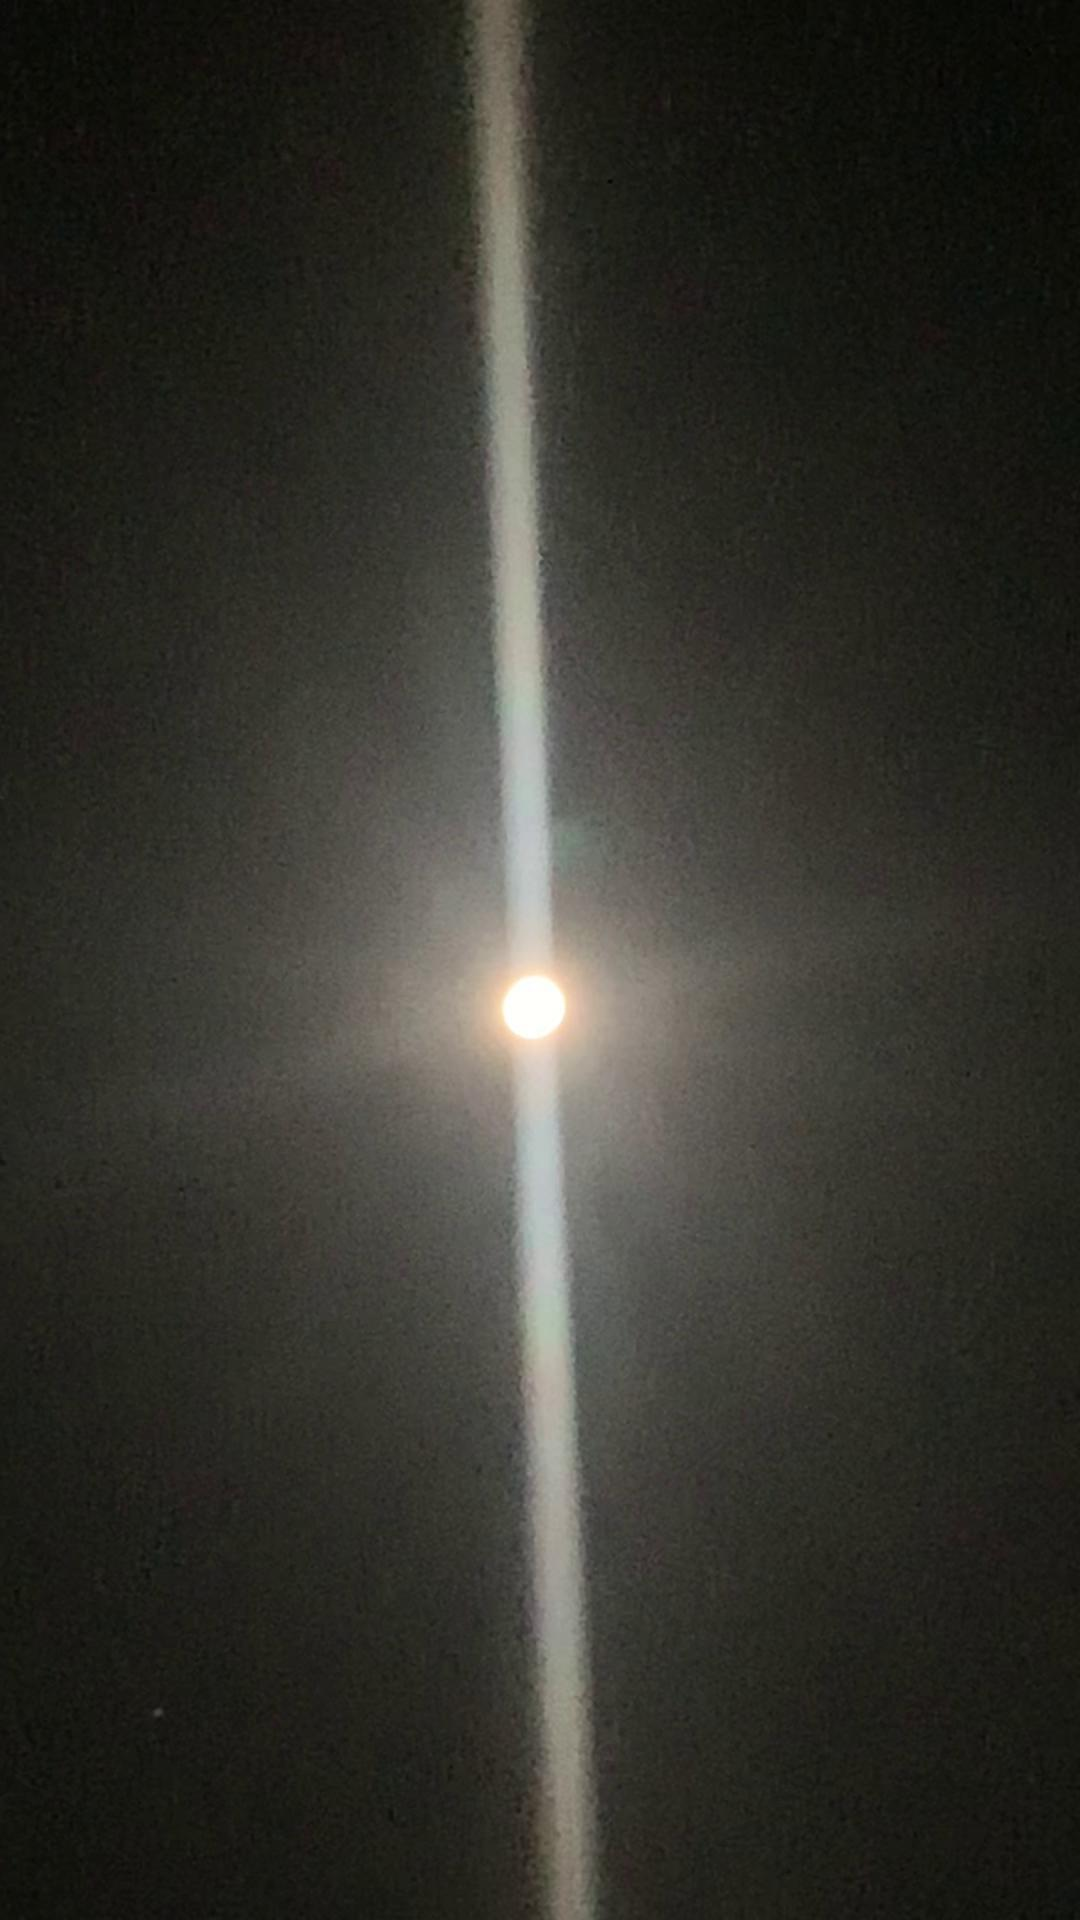moon: (479, 945, 601, 1059)
